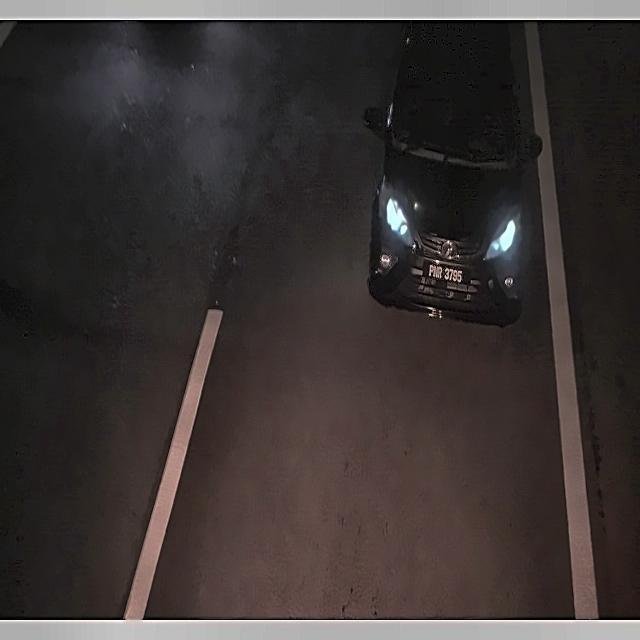car: (421, 258, 467, 292)
